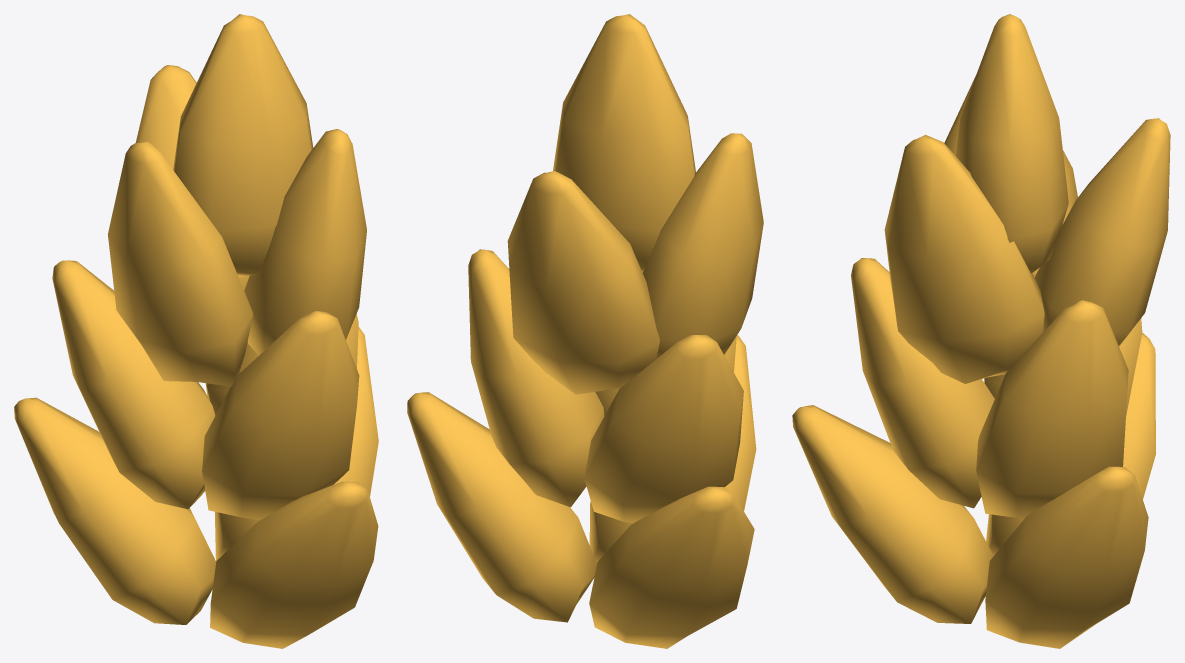
File: Wheat_Crops.fbx
The picture shows the model from 3 angles, left to right: view 1: azimuth 30°, elevation 25°; view 2: azimuth 150°, elevation 25°; view 3: azimuth 270°, elevation 25°; orthographic projection.
Parts seen in each view (by area): view 1: Wheat_Crops; view 2: Wheat_Crops; view 3: Wheat_Crops.
Boxes of the visible parts, x1,y1,x2,y2 form: Wheat_Crops: [14, 14, 378, 648]; Wheat_Crops: [407, 14, 763, 648]; Wheat_Crops: [792, 14, 1170, 648].
Size of the model in its own units: 484 by 837 by 476.
